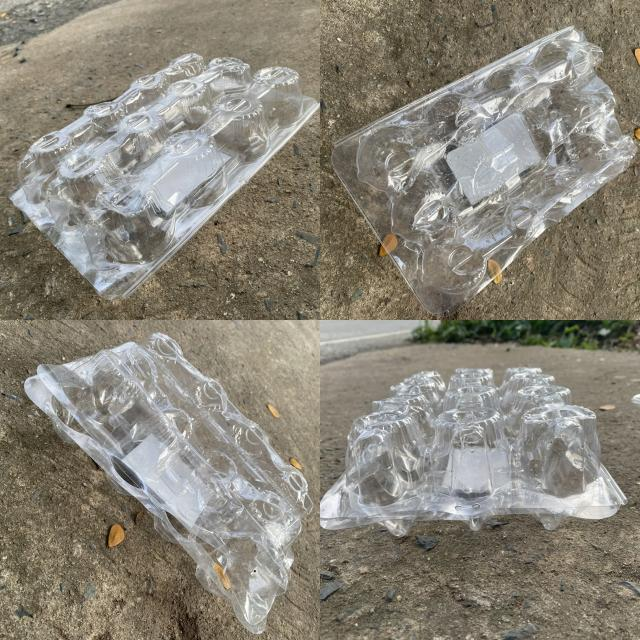Single-Use-Plastic: (331, 28, 635, 316), (25, 334, 312, 633), (11, 55, 318, 298), (320, 368, 626, 536)
